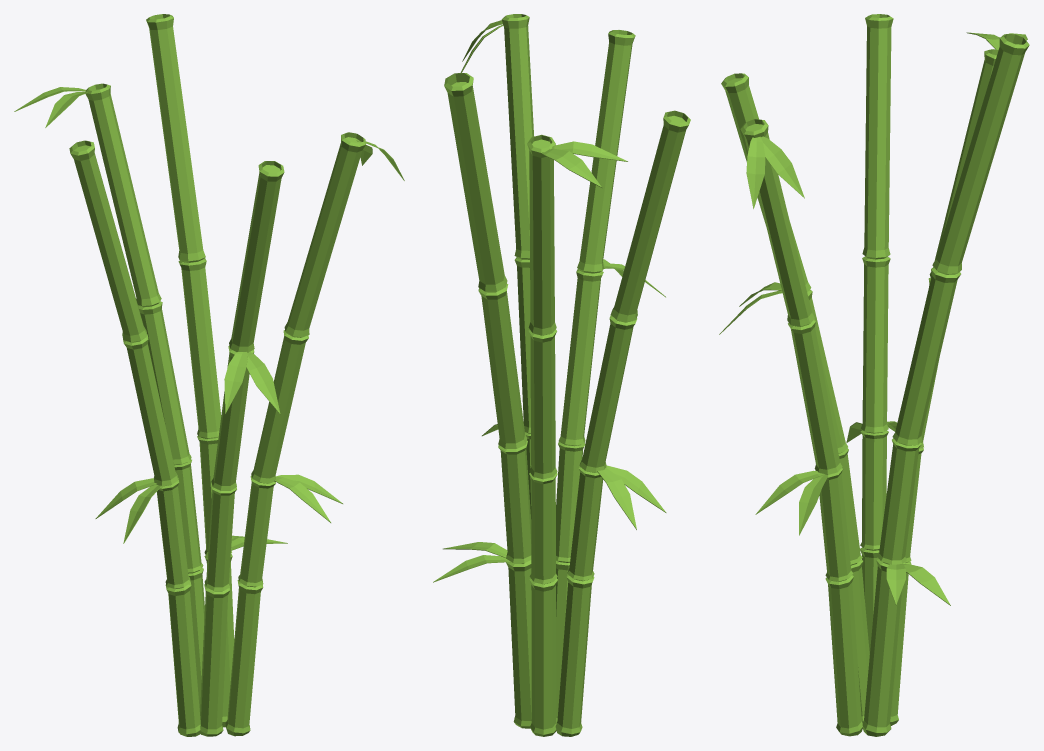
Rendered from Bamboo_01.obj.
3 renders of one model, left to right at view 1: azimuth 30°, elevation 25°; view 2: azimuth 150°, elevation 25°; view 3: azimuth 270°, elevation 25°, orthographic. The views are drawn at different scales.
Visible parts, largest first — view 1: Bamboo_Circle; view 2: Bamboo_Circle; view 3: Bamboo_Circle.
Part boxes in pixels (x1,y1,x2,y2): Bamboo_Circle: [14, 14, 404, 736]; Bamboo_Circle: [433, 14, 690, 736]; Bamboo_Circle: [719, 14, 1029, 736].
Bounding box in the file's own units: 4.72 × 10.85 × 4.39.
